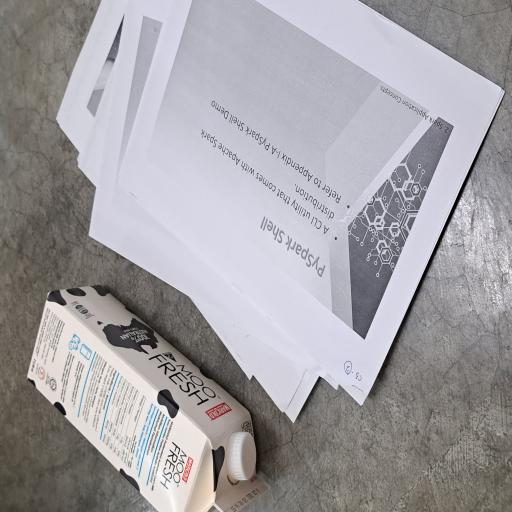drink carton: (0, 36, 171, 338)
paper: (69, 71, 384, 512)
plastic bottle cap: (21, 303, 62, 342)
